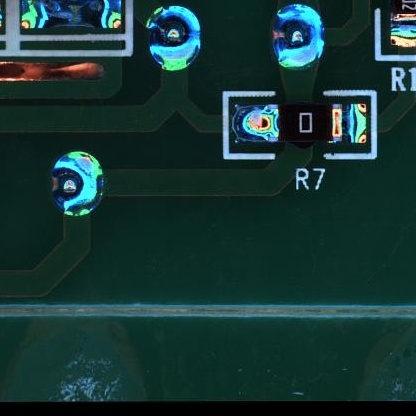spot: (49, 151, 107, 217), (146, 6, 201, 73), (271, 3, 325, 71)
